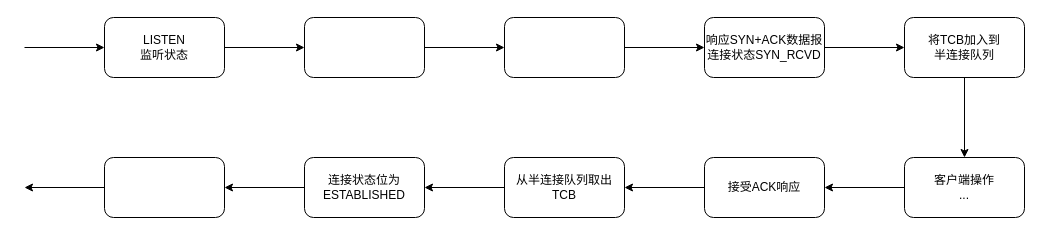
This 1042x235 diagram has some shape labels left out. The shapes that lost their labels are listed below. From the top down, each one's box as (x1, y1, x2, y2) in pixels, then its label:
(304, 16, 424, 78): 接受SYN
(504, 16, 624, 78): 新建和初始化TCB
(104, 156, 224, 218): TCB加入到 全连接队列
